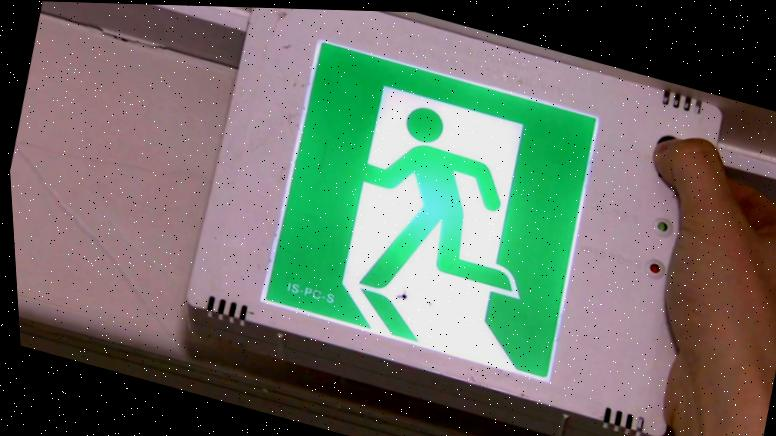emergency_exit: (10, 3, 773, 434), (258, 39, 600, 383)
